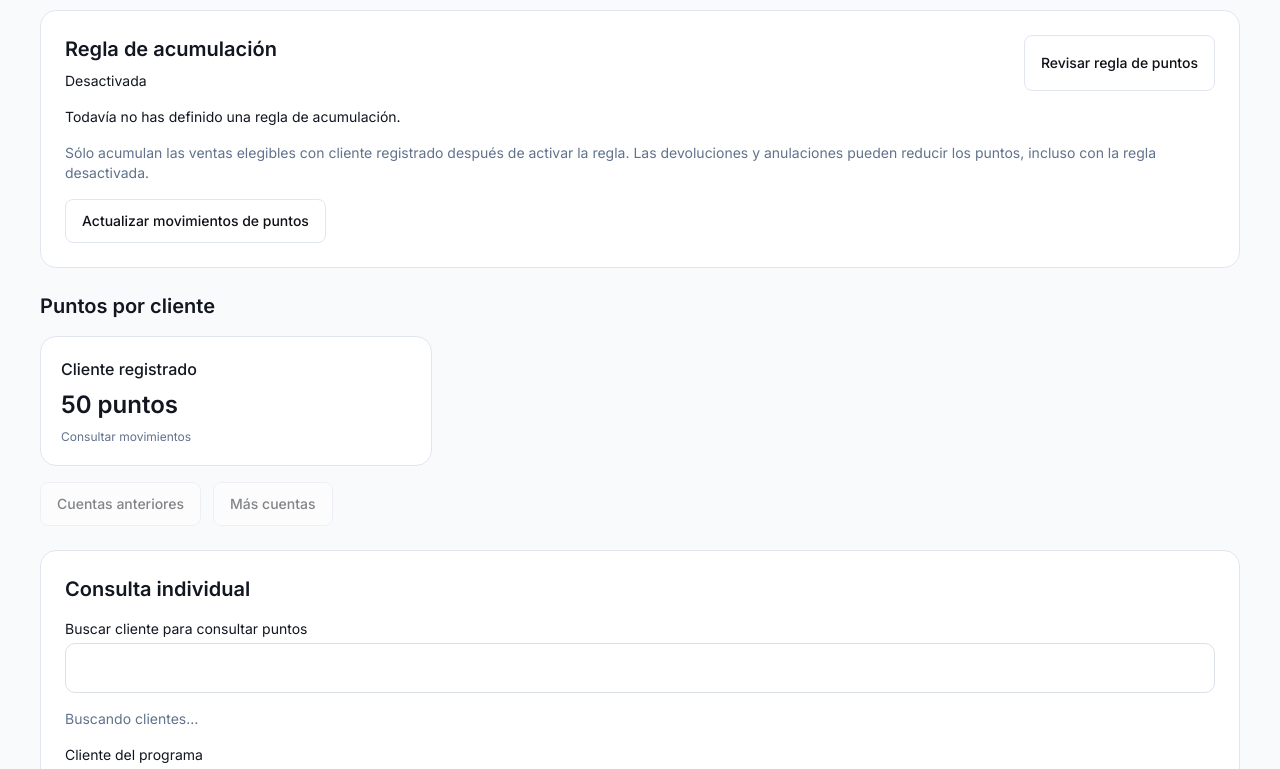
Test: keeps a malformed JSON out of customer points feedback
The image size is (1280, 769).
(page scrolled)
Click the button "Cliente registrado 50 puntos Consultar movimientos" at point(129, 369), box [40,336,432,466]
(page scrolled)
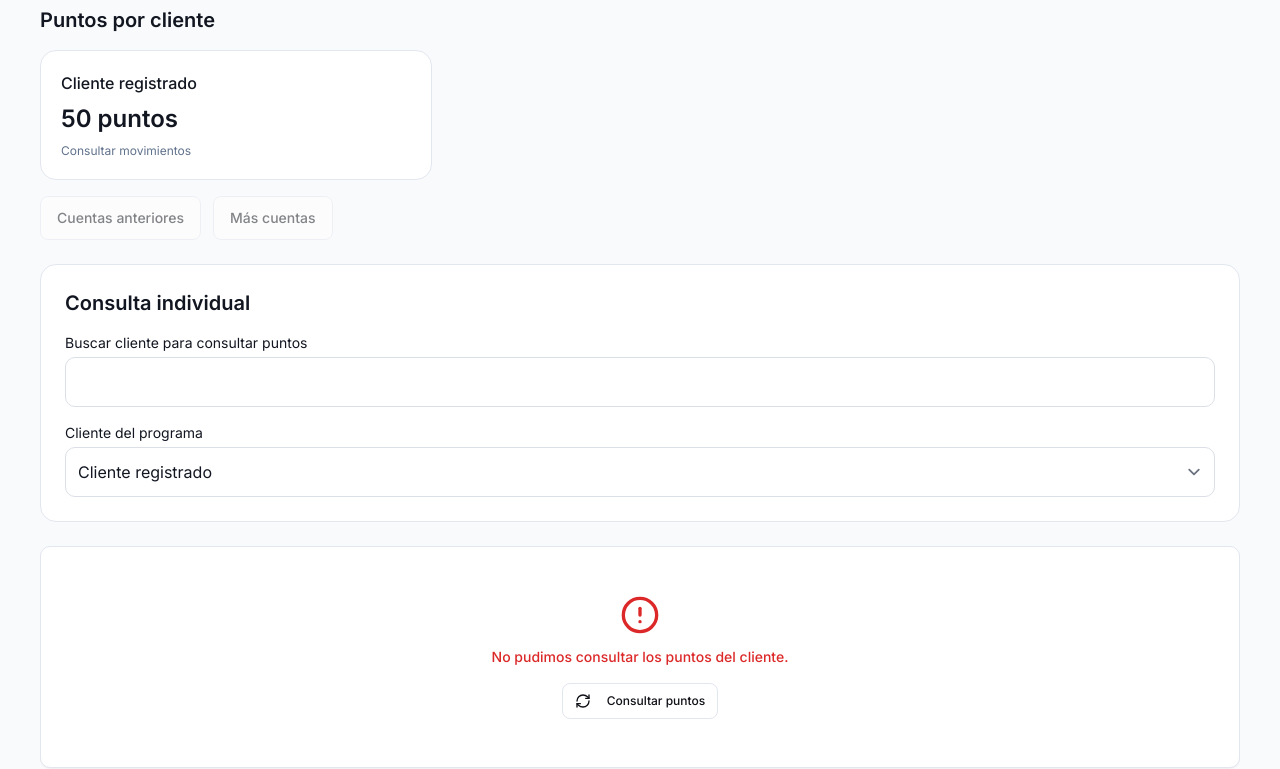
Check: the text "No pudimos consultar los puntos del cliente." is shown, box [492,647,788,667]
